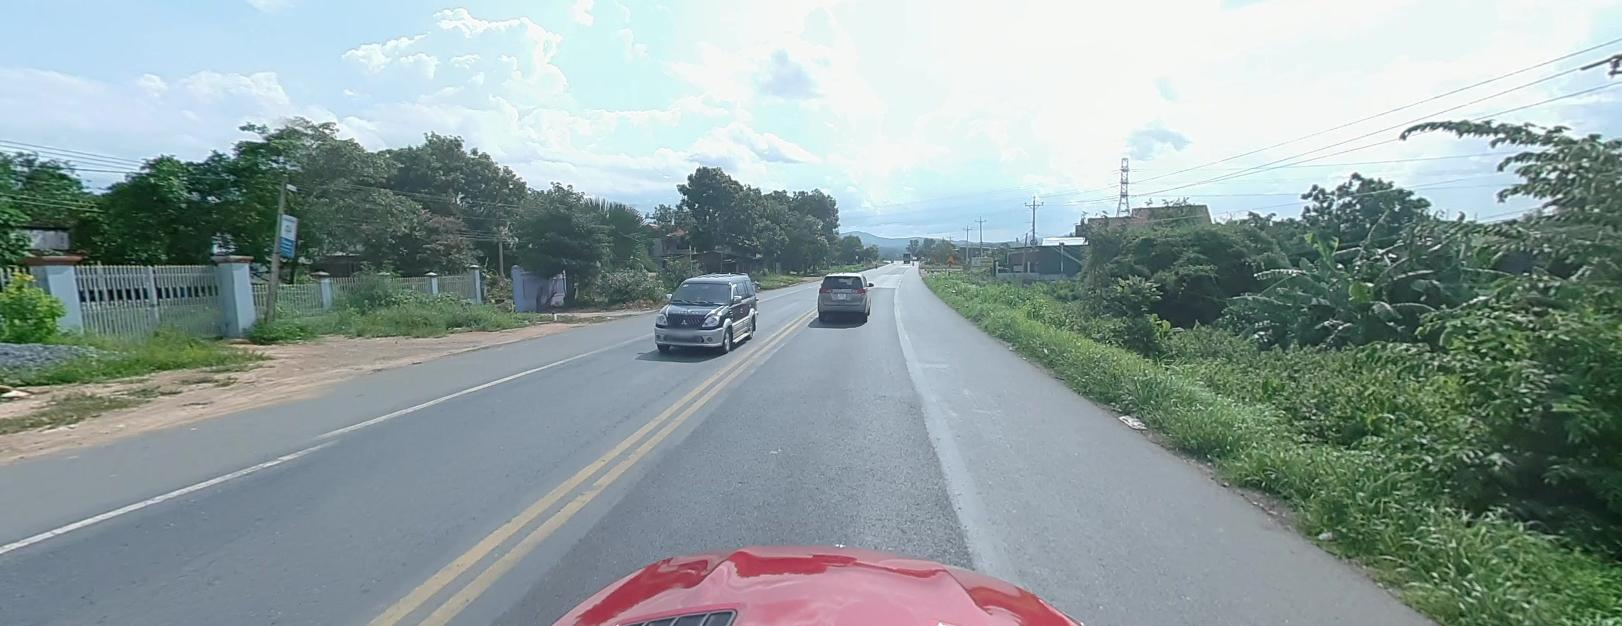Nguy hiem: (946, 253, 955, 262), (930, 254, 936, 260)
